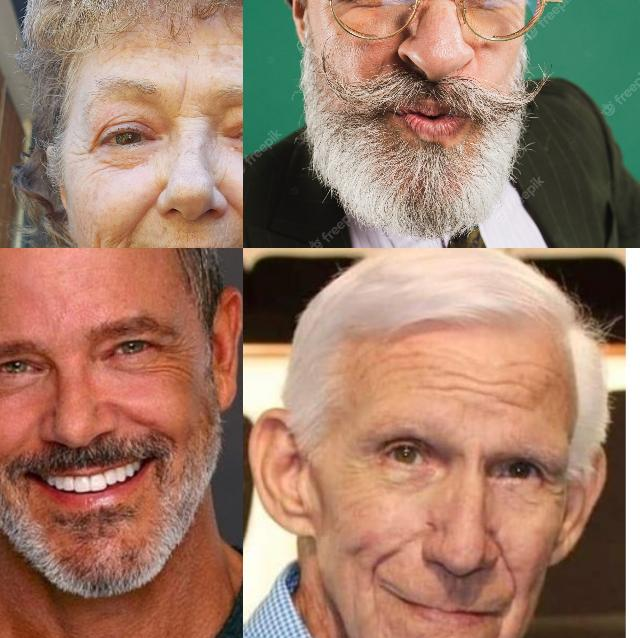crows_feet: (540, 464, 566, 504), (160, 342, 188, 374), (74, 136, 98, 168)
forehead: (504, 356, 544, 418), (442, 364, 498, 406), (385, 344, 431, 380)
frown_line: (170, 71, 196, 117)
gummy_smile: (128, 190, 158, 238), (366, 538, 402, 574), (494, 539, 522, 585), (225, 192, 243, 235)
masseter: (86, 229, 119, 248)
